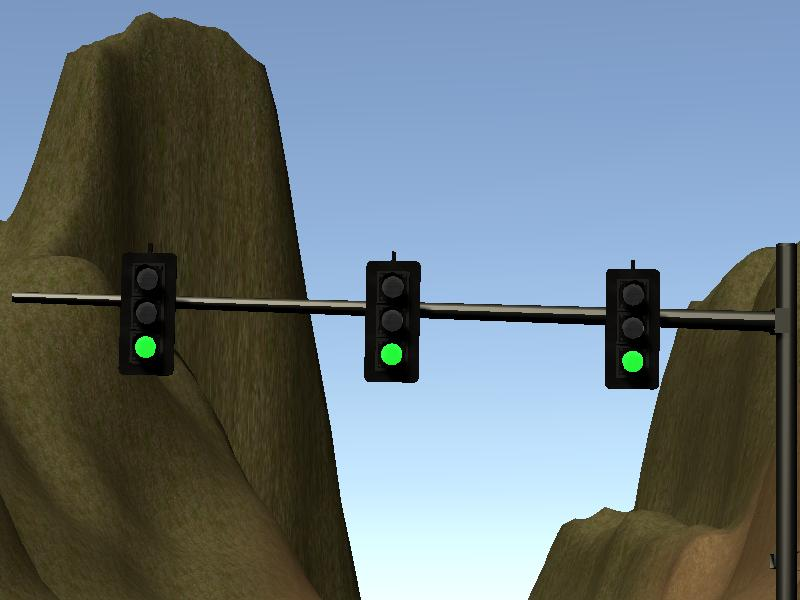Green: (605, 269, 658, 390), (366, 262, 417, 383), (123, 252, 171, 376)
